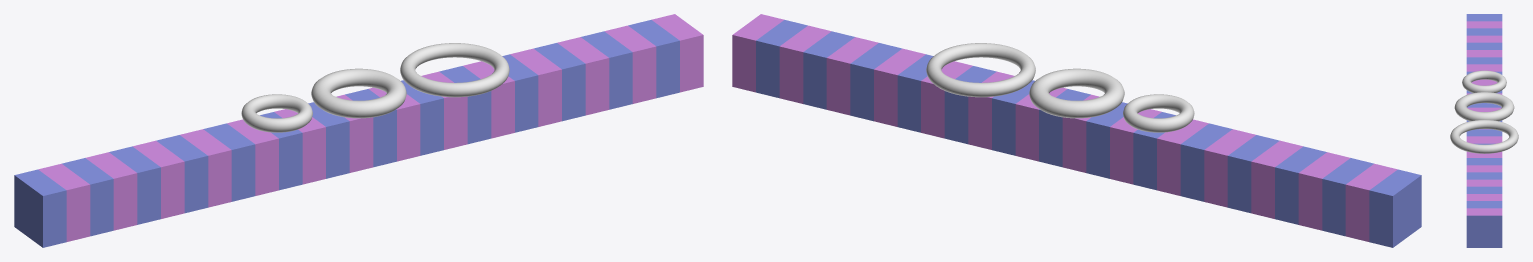
The model's file is Smooth Ring Strip Road.fbx.
3 views of the same model, side by side, from view 1: azimuth 30°, elevation 25°; view 2: azimuth 150°, elevation 25°; view 3: azimuth 270°, elevation 25° (orthographic). The views are drawn at different scales.
Parts seen in each view (by area): view 1: Cube, 3, 2, 1; view 2: Cube, 3, 2, 1; view 3: Cube, 3, 2, 1.
Part boxes in pixels (x1,y1,x2,y2): Cube: (14,14,703,247); 3: (400,43,509,97); 2: (311,68,406,118); 1: (241,94,312,132); Cube: (732,14,1421,247); 3: (926,43,1035,97); 2: (1029,68,1124,118); 1: (1123,94,1194,132); Cube: (1466,14,1502,247); 3: (1450,120,1518,153); 2: (1454,92,1514,121); 1: (1462,70,1506,92).
Bounding box in the file's own units: 2665 × 274 × 383.
